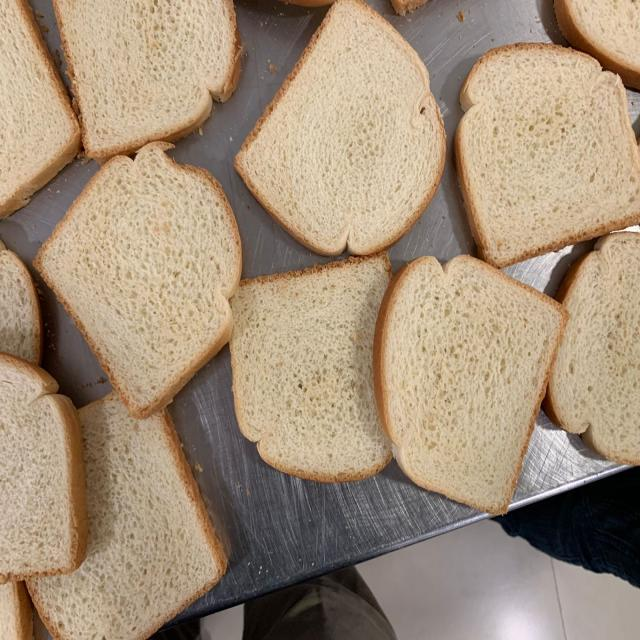pan: (35, 144, 243, 419), (234, 0, 447, 257), (372, 255, 570, 516), (456, 41, 640, 270), (227, 251, 395, 484)
